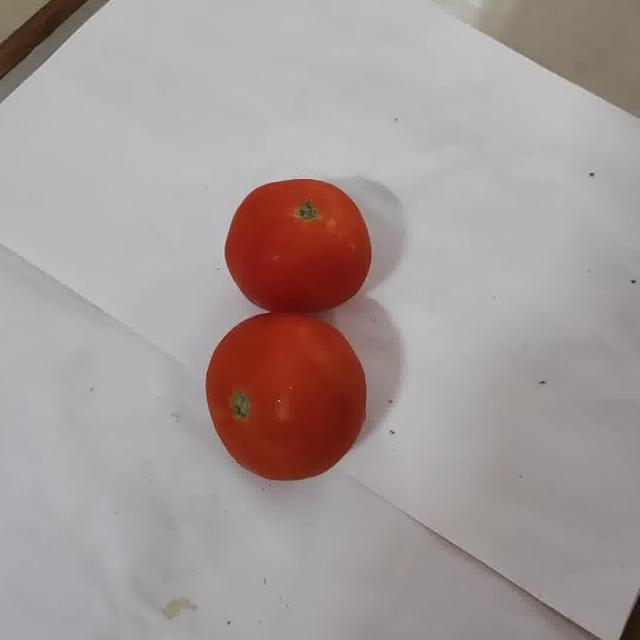Tomato: (206, 313, 366, 480), (225, 179, 372, 312)
